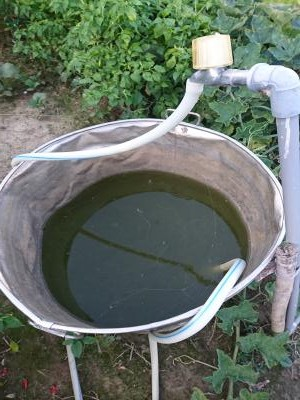bucket: (1, 116, 285, 343)
